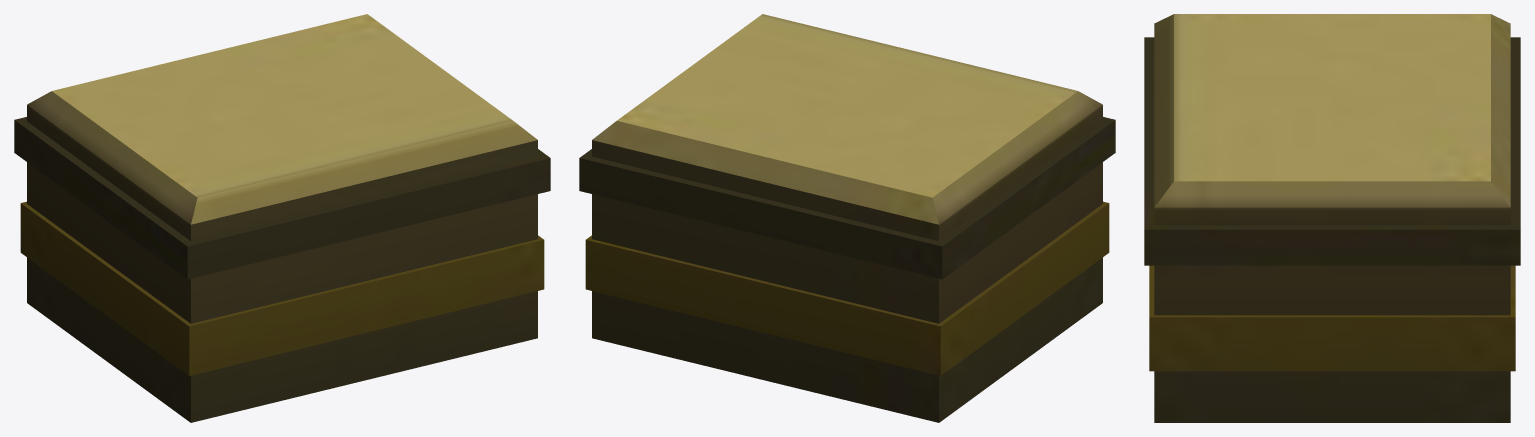
File: storage-chest.glb
3 views of the same model, side by side, from view 1: azimuth 30°, elevation 25°; view 2: azimuth 150°, elevation 25°; view 3: azimuth 270°, elevation 25° (orthographic). The views are drawn at different scales.
Visible parts, largest first — view 1: storage-chest; view 2: storage-chest; view 3: storage-chest.
Boxes of the visible parts, x1,y1,x2,y2 form: storage-chest: (14, 14, 550, 422); storage-chest: (579, 14, 1115, 422); storage-chest: (1144, 14, 1520, 422).
Size of the model in its own units: 0.23 by 0.13 by 0.19.
Materials: 1 (1 with a texture image).
